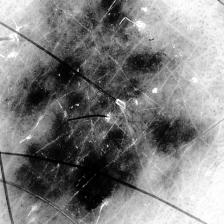Benign Marking or Mole: (14, 1, 195, 216)
